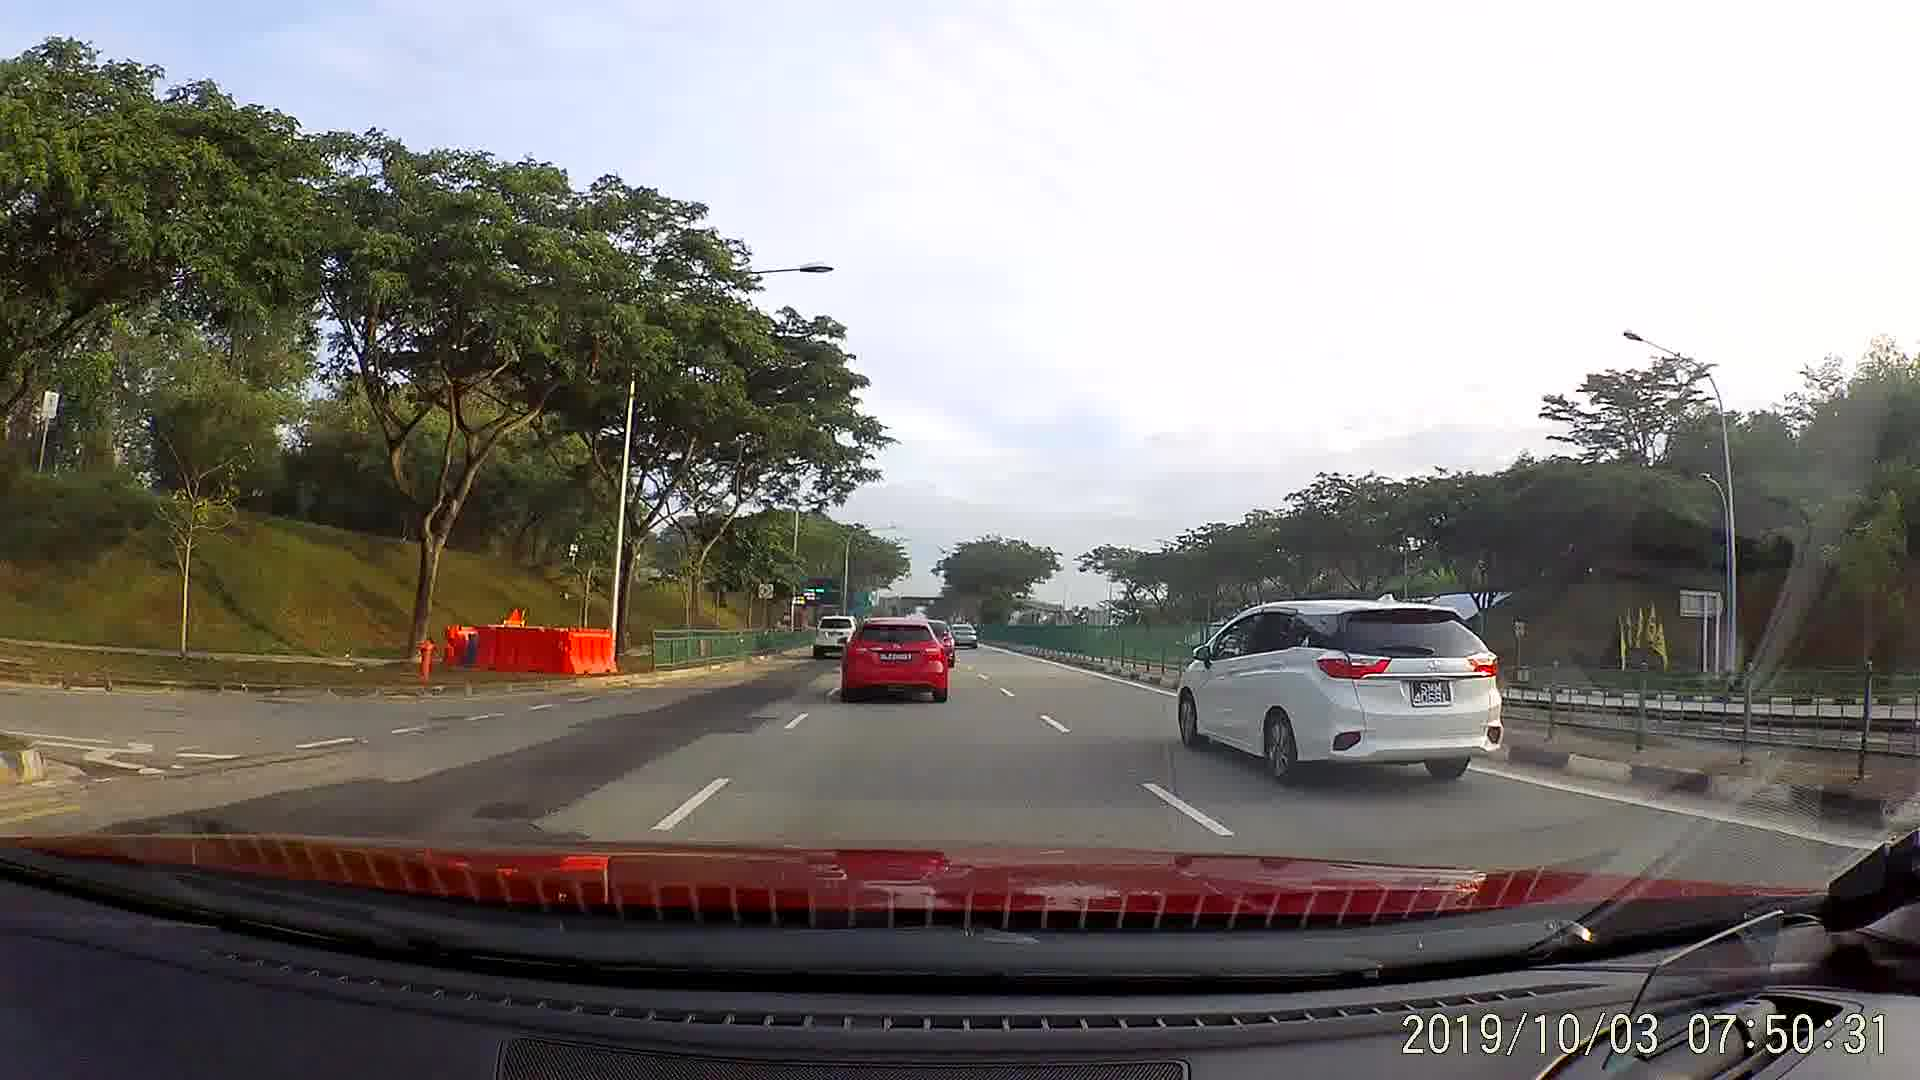car: (1170, 596, 1509, 793), (843, 620, 953, 705), (811, 611, 860, 665), (947, 618, 978, 651)
